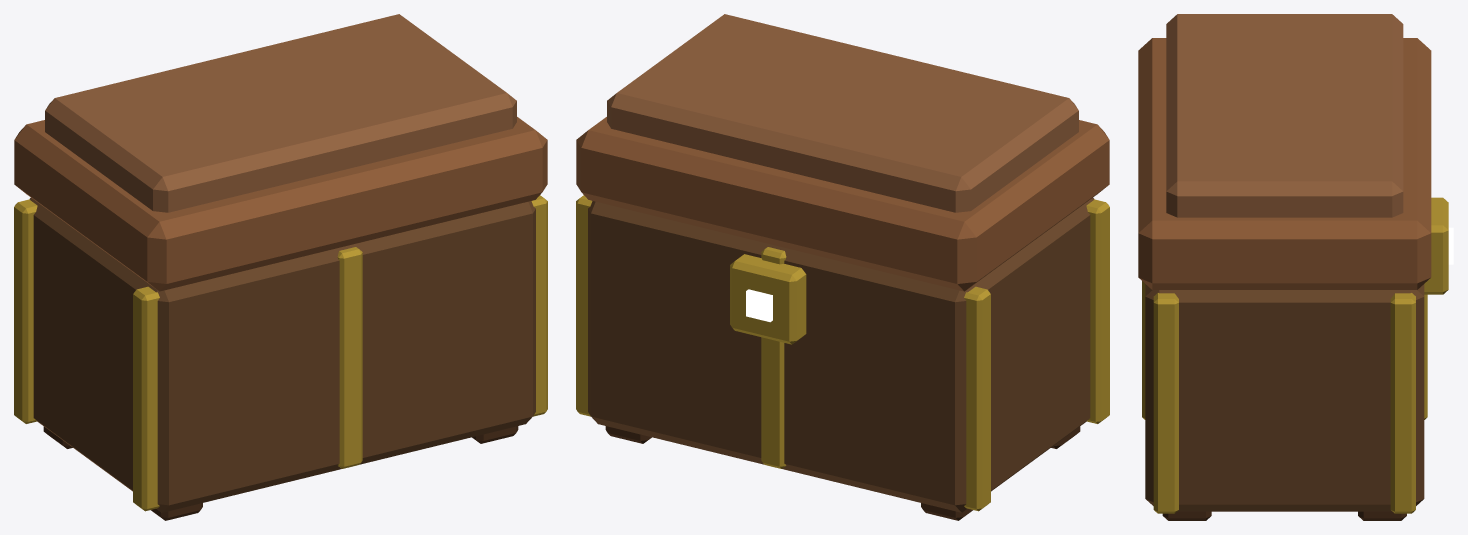
File: GoldChest.glb
The picture shows the model from 3 angles, left to right: view 1: azimuth 30°, elevation 25°; view 2: azimuth 150°, elevation 25°; view 3: azimuth 270°, elevation 25°; orthographic projection.
Parts seen in each view (by area): view 1: Body; view 2: Body, Glow; view 3: Body.
Boxes of the visible parts, x1,y1,x2,y2 form: Body: (14, 14, 547, 520); Body: (576, 14, 1109, 520); Glow: (746, 289, 772, 322); Body: (1138, 14, 1448, 520).
Size of what is drawn, in the model's own units: 3.35 by 2.68 by 2.26.
